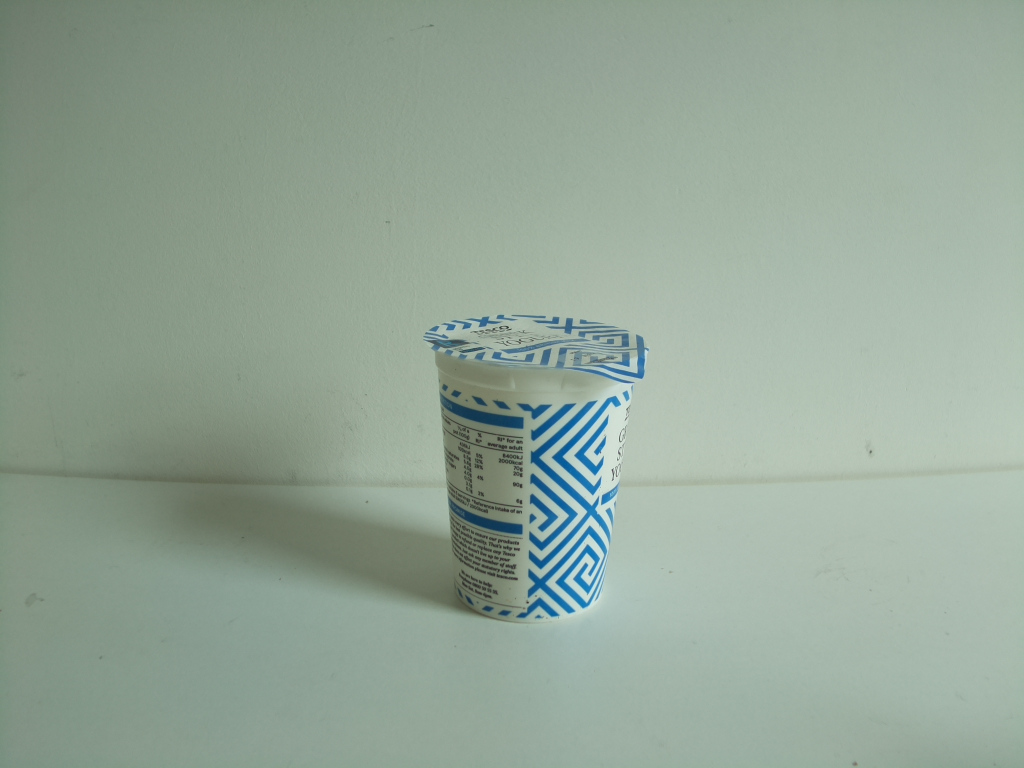yogurt: (424, 312, 652, 628)
